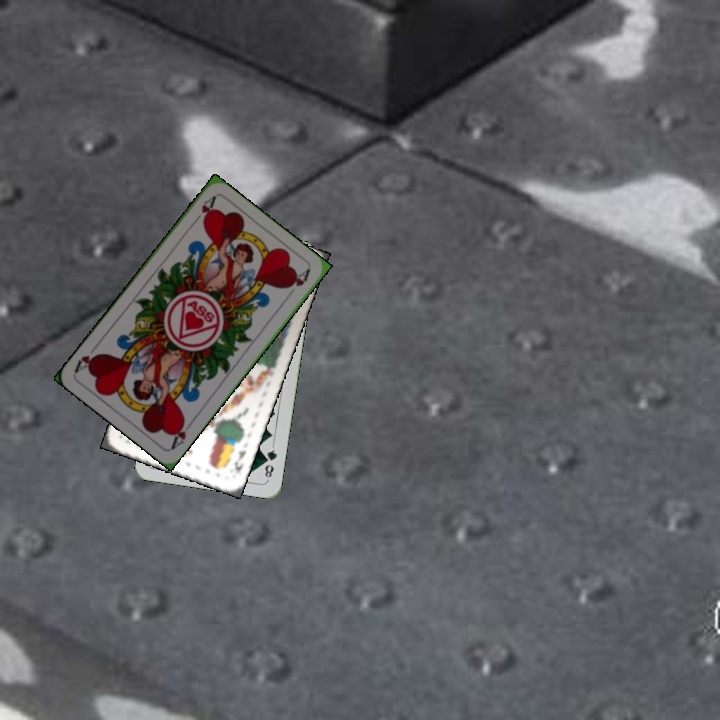EK: (230, 446, 249, 475)
G8: (261, 442, 280, 482)
HA: (188, 192, 218, 228), (167, 414, 196, 451)
